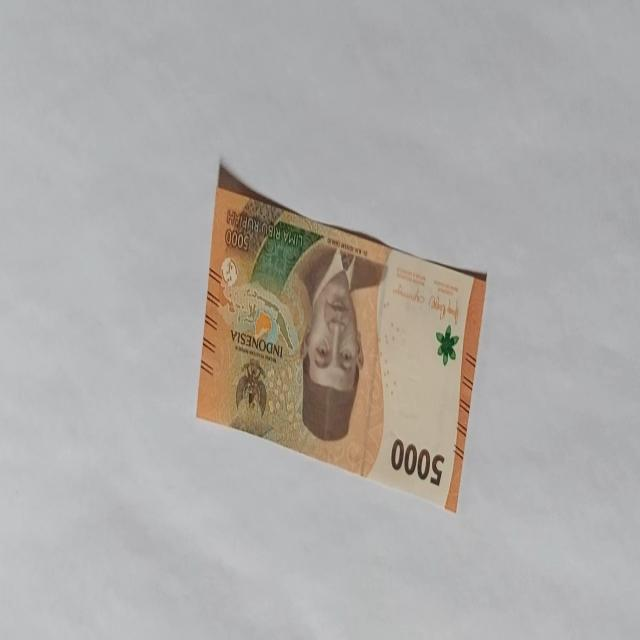lima ribu rupiah: (195, 161, 487, 514)
